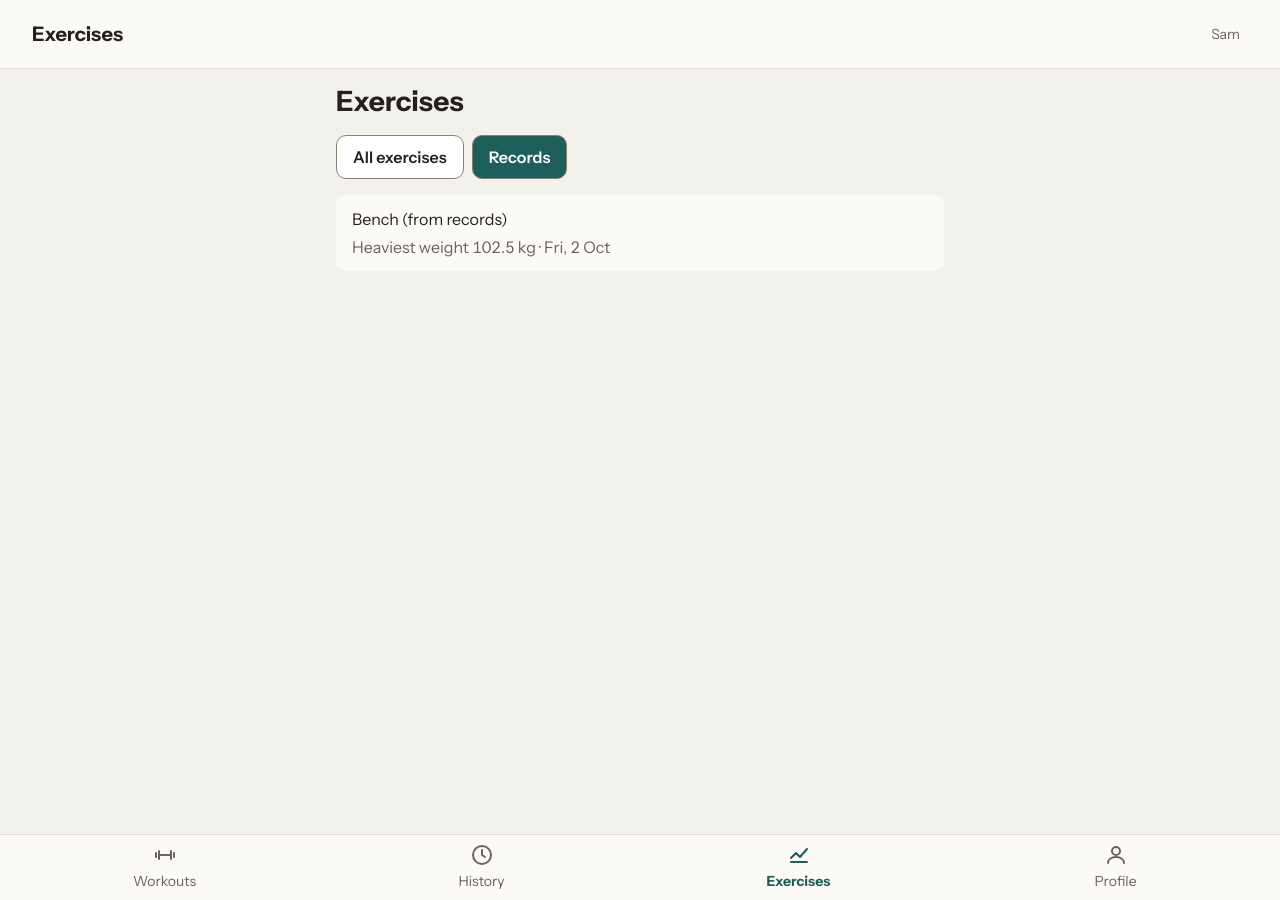
Test: 18.2 AC19 — resolution on screen › a Records row for a forked built-in lands on the copy, by replace
Click the link "Bench (from records) Heaviest weight 102.5 kg · Fri, 2 Oct" at (430, 219), box [336,195,944,271]
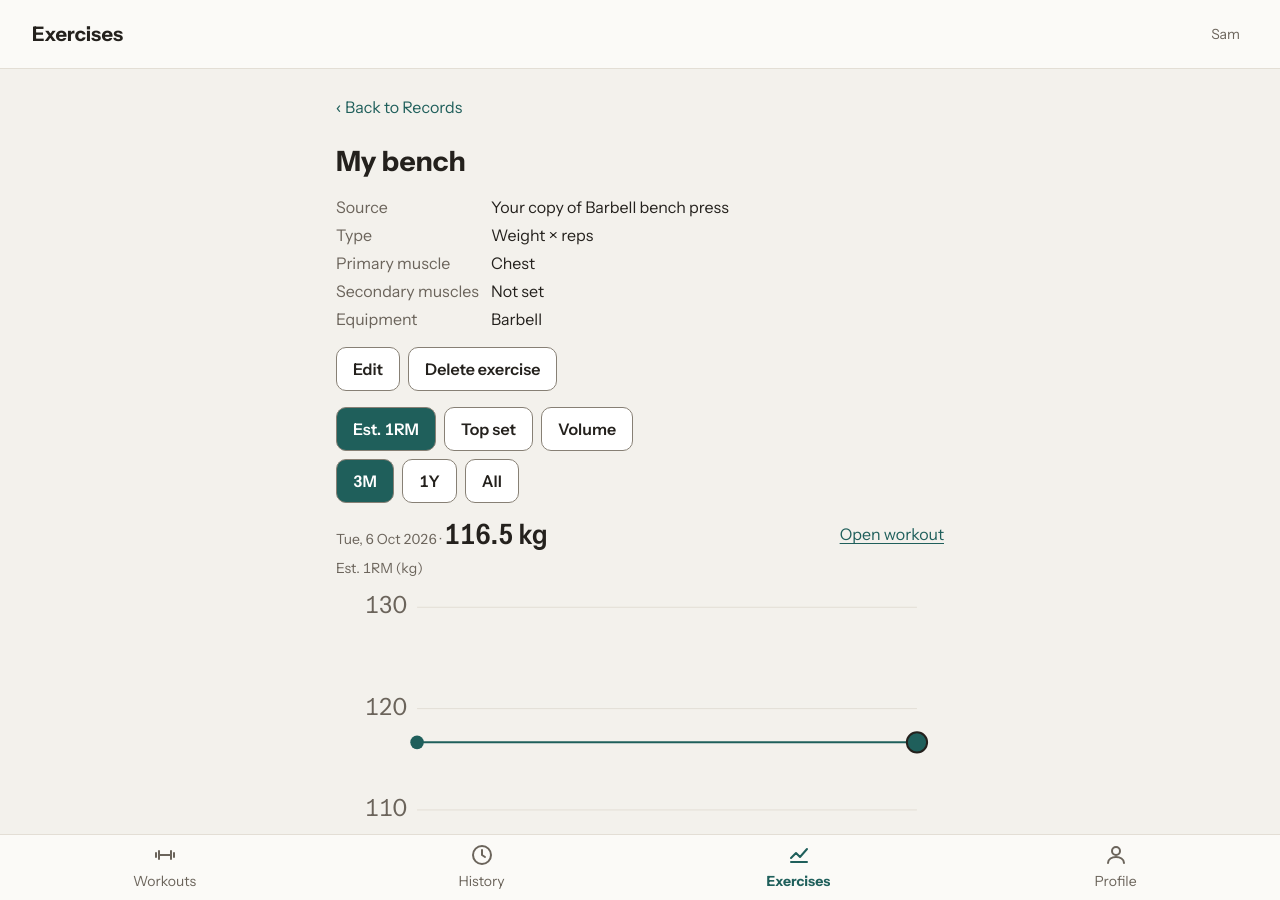
Now the heading "My bench" is shown, box [336,144,466,178]
